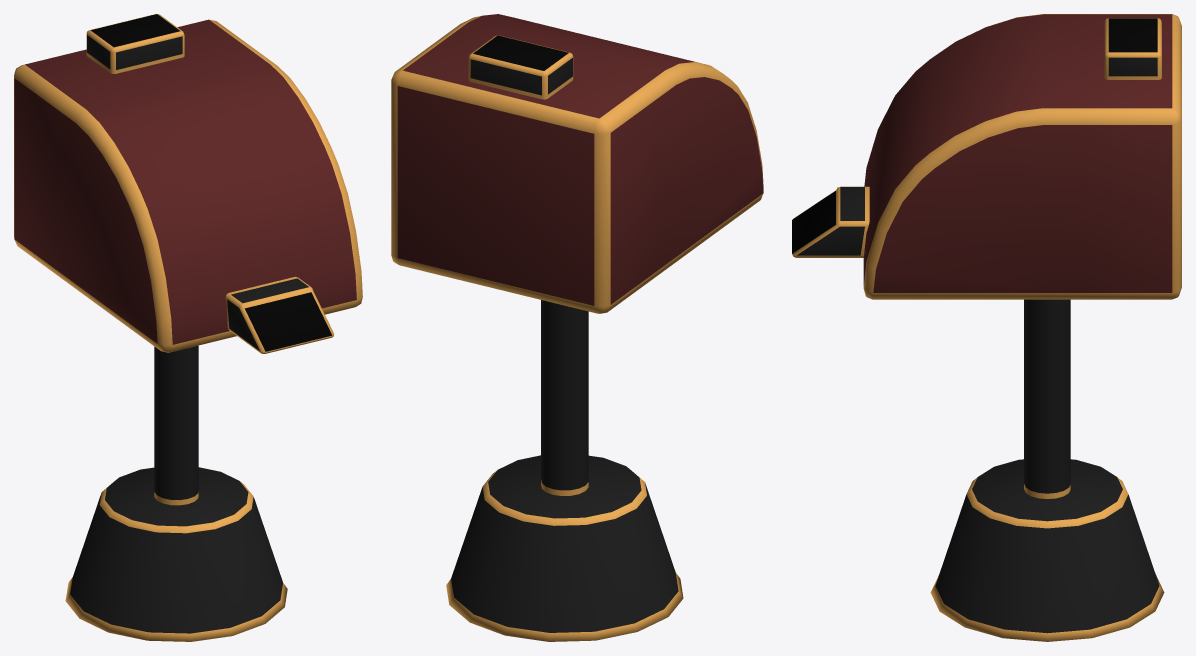
The model's file is shuffler 1.fbx.
The picture shows the model from 3 angles, left to right: view 1: azimuth 30°, elevation 25°; view 2: azimuth 150°, elevation 25°; view 3: azimuth 270°, elevation 25°; orthographic projection. The views are drawn at different scales.
Parts seen in each view (by area): view 1: shuffler; view 2: shuffler; view 3: shuffler.
Boxes of the visible parts, box(x1,y1,x2,y2) form: shuffler: box(14, 14, 362, 641); shuffler: box(391, 14, 763, 641); shuffler: box(792, 14, 1181, 641).
Size of the model in its own units: 48.28 by 120 by 76.17.
